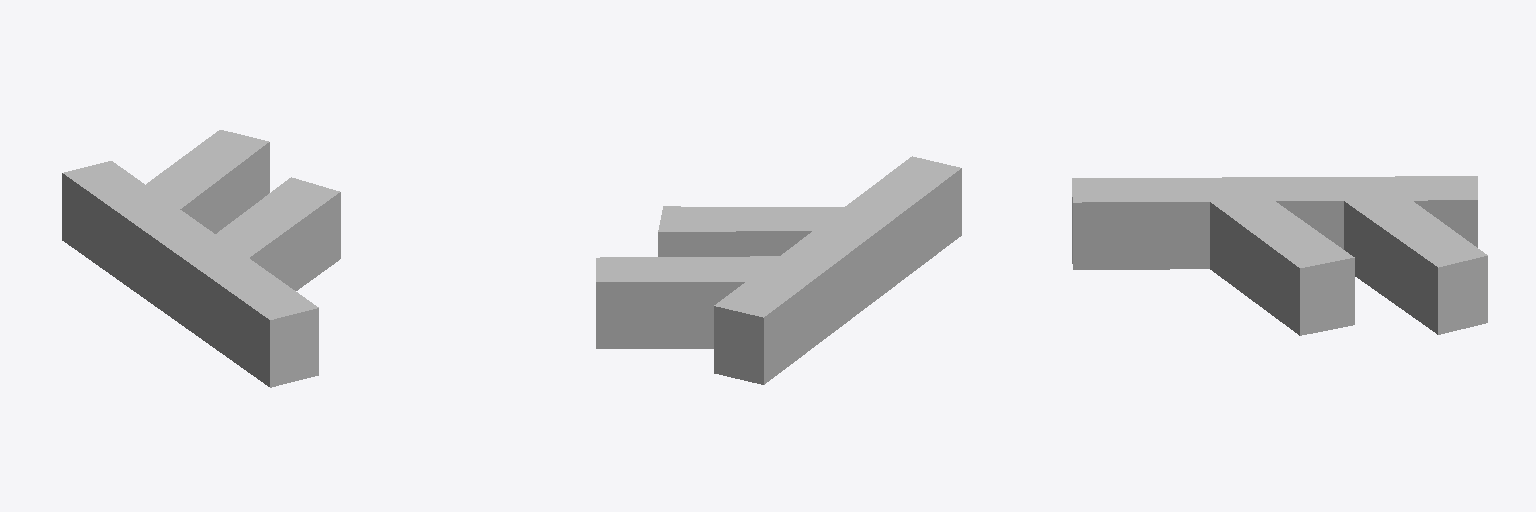
File: Fehu.obj
3 renders of one model, left to right at view 1: azimuth 30°, elevation 25°; view 2: azimuth 150°, elevation 25°; view 3: azimuth 270°, elevation 25°, orthographic.
Visible parts, largest first — view 1: Fehu; view 2: Fehu; view 3: Fehu.
Part boxes in pixels (x1,y1,x2,y2): Fehu: (62,130,340,387); Fehu: (596,156,961,384); Fehu: (1072,176,1487,335).
Size of the model in its own units: 0.3018 by 0.1028 by 0.5741.